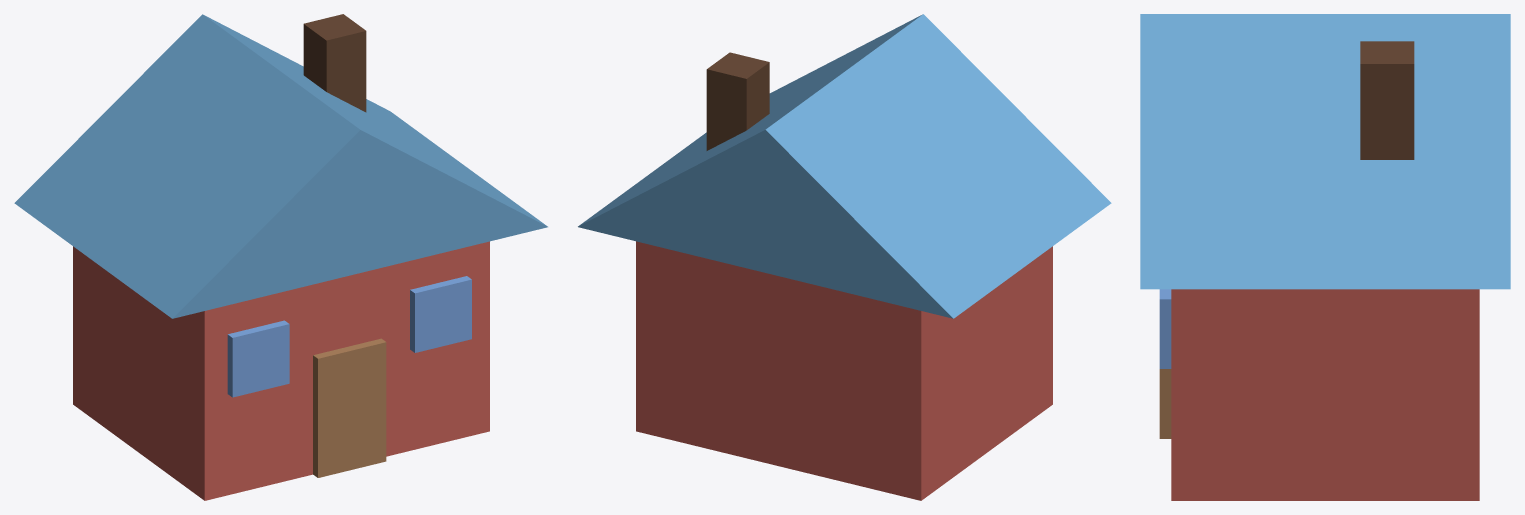
Rendered from deco_house.obj.
3 renders of one model, left to right at view 1: azimuth 30°, elevation 25°; view 2: azimuth 150°, elevation 25°; view 3: azimuth 270°, elevation 25°, orthographic. The views are drawn at different scales.
Parts seen in each view (by area): view 1: deco_house; view 2: deco_house; view 3: deco_house.
Boxes of the visible parts, left/top/right/bottom form: deco_house: left=14, top=14, right=547, bottom=500; deco_house: left=578, top=14, right=1111, bottom=500; deco_house: left=1140, top=14, right=1510, bottom=500.
Size of the model in its own units: 0.066 by 0.059 by 0.048.
Materials: 1 (1 with a texture image).
